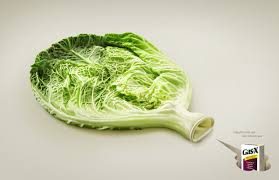cabbage: (26, 19, 217, 154)
